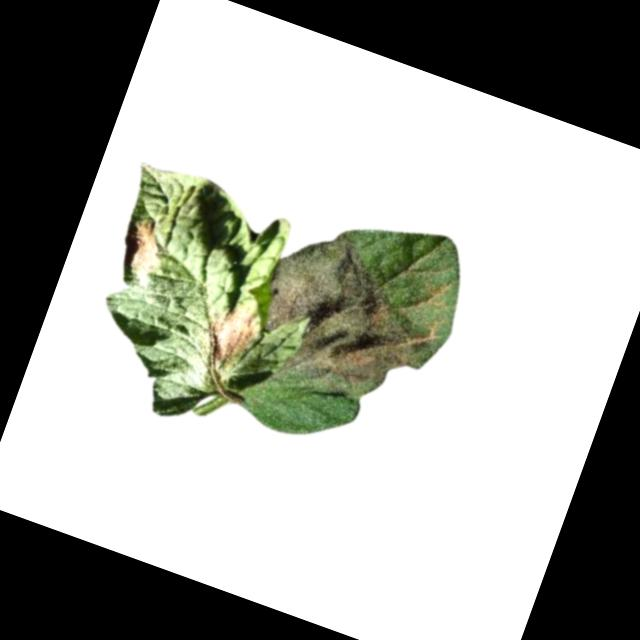Late_blight: (235, 211, 461, 430), (194, 293, 264, 370), (113, 210, 172, 280)
